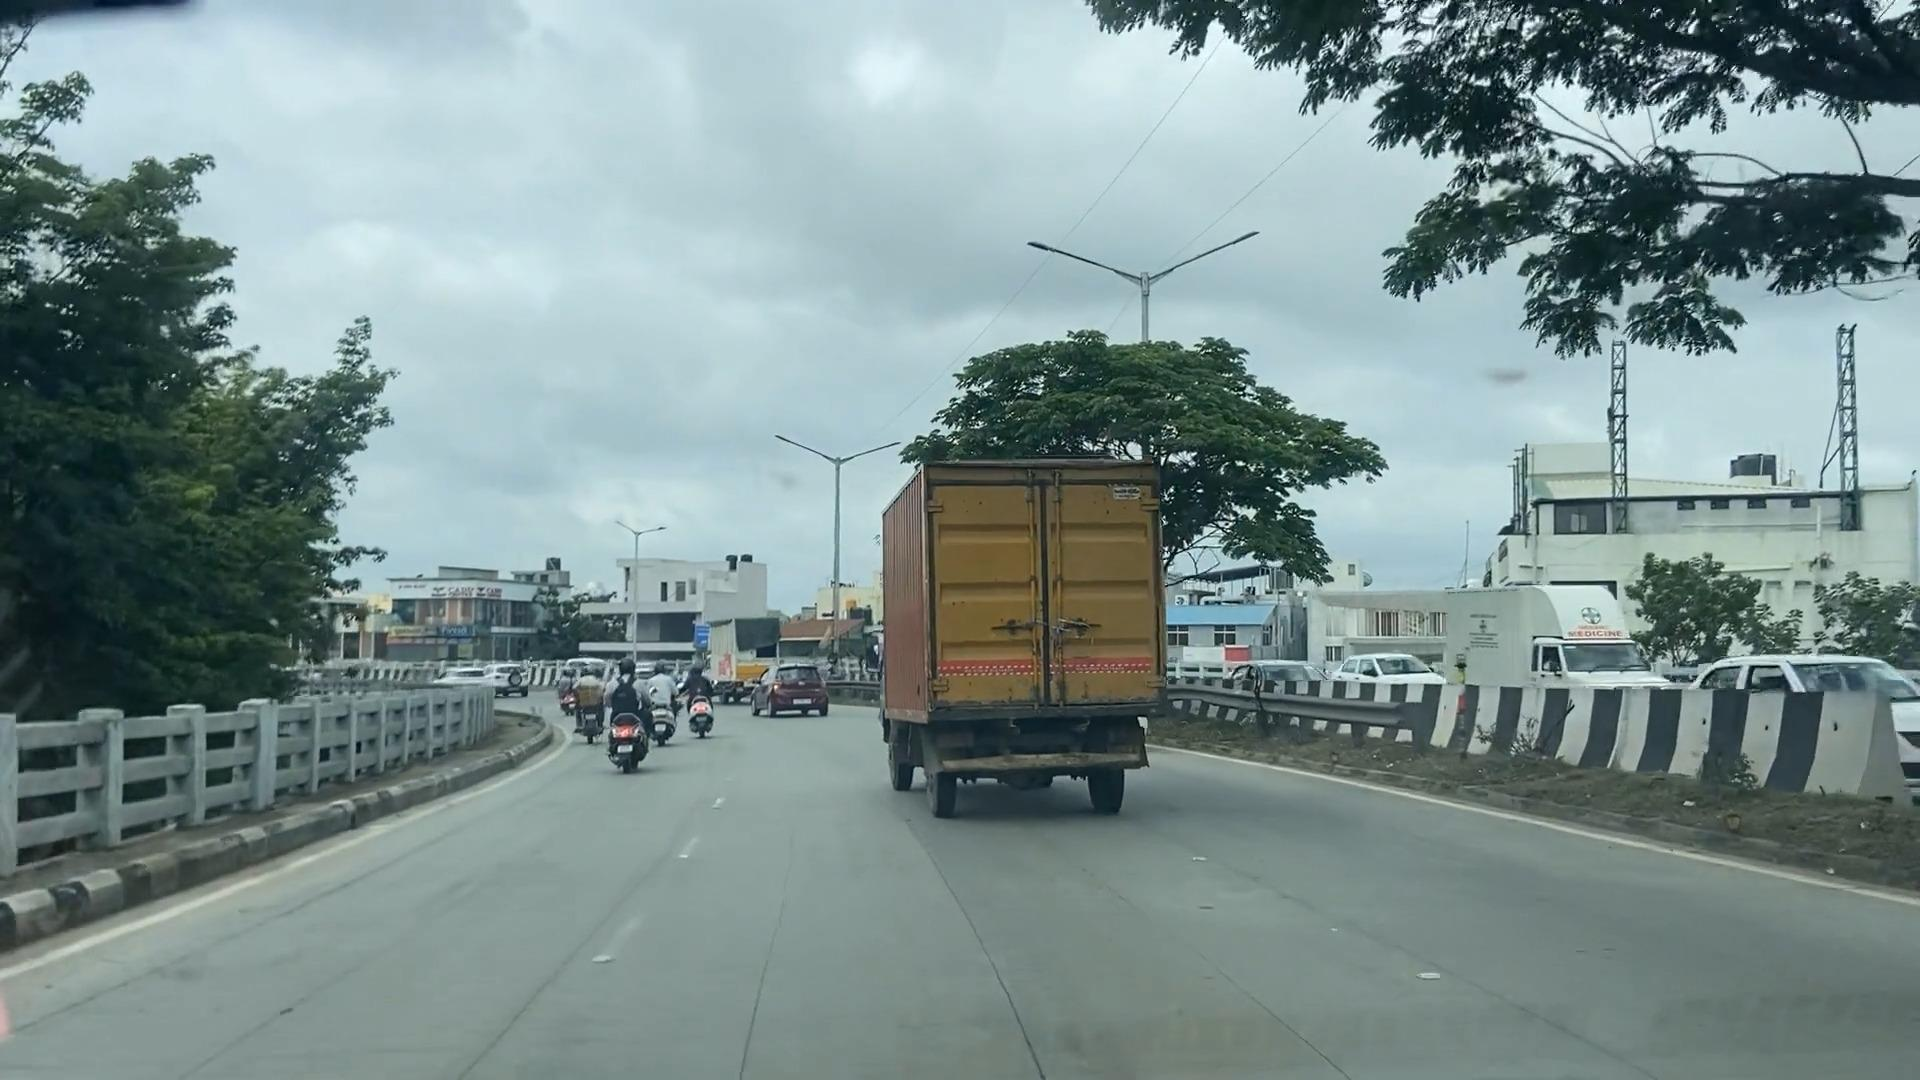HMV: (868, 464, 1157, 824)
LMV: (766, 652, 851, 741), (608, 648, 655, 780), (676, 652, 721, 753)
